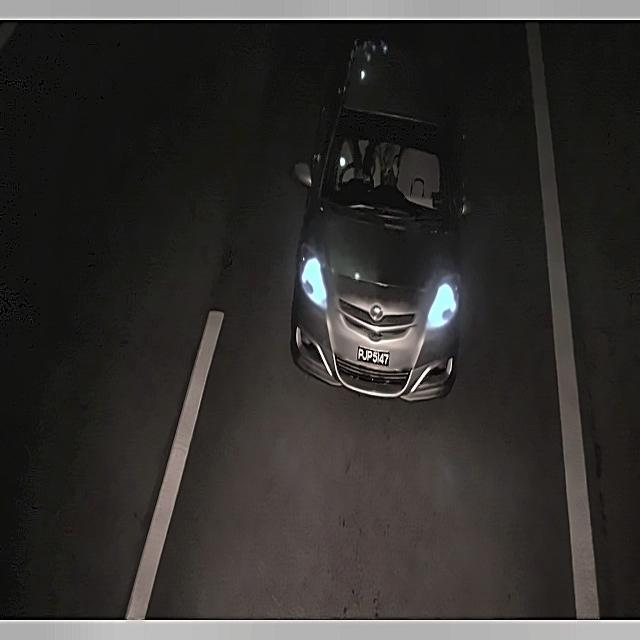car: (350, 339, 396, 372)
